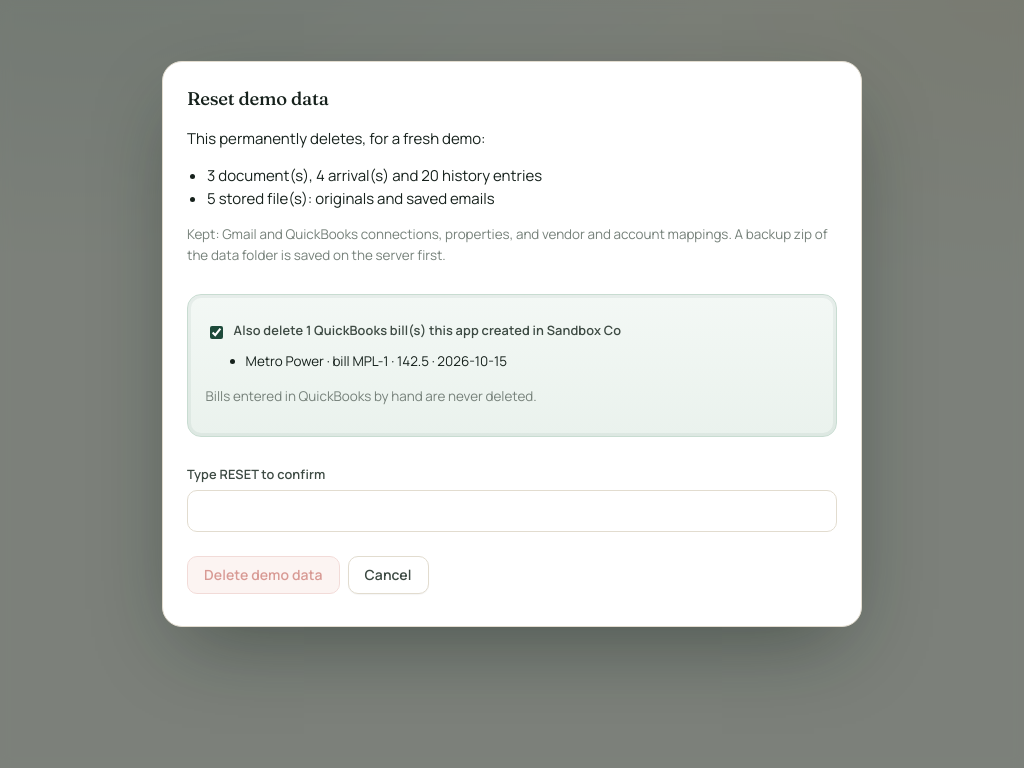
ResetDemo › can leave QuickBooks alone, and shows a failure without closing
Click the checkbox at (216, 332), box [210, 326, 223, 339]
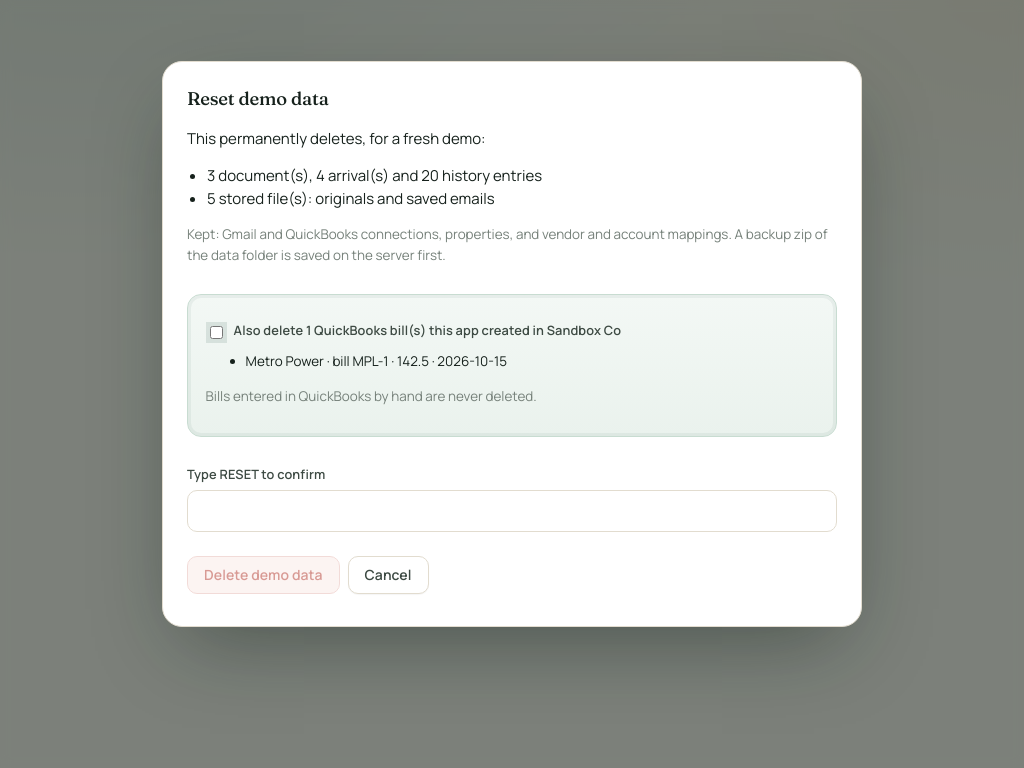
Type "RESET" into the field labelled "Type RESET to confirm" at (512, 511), box [187, 490, 837, 532]
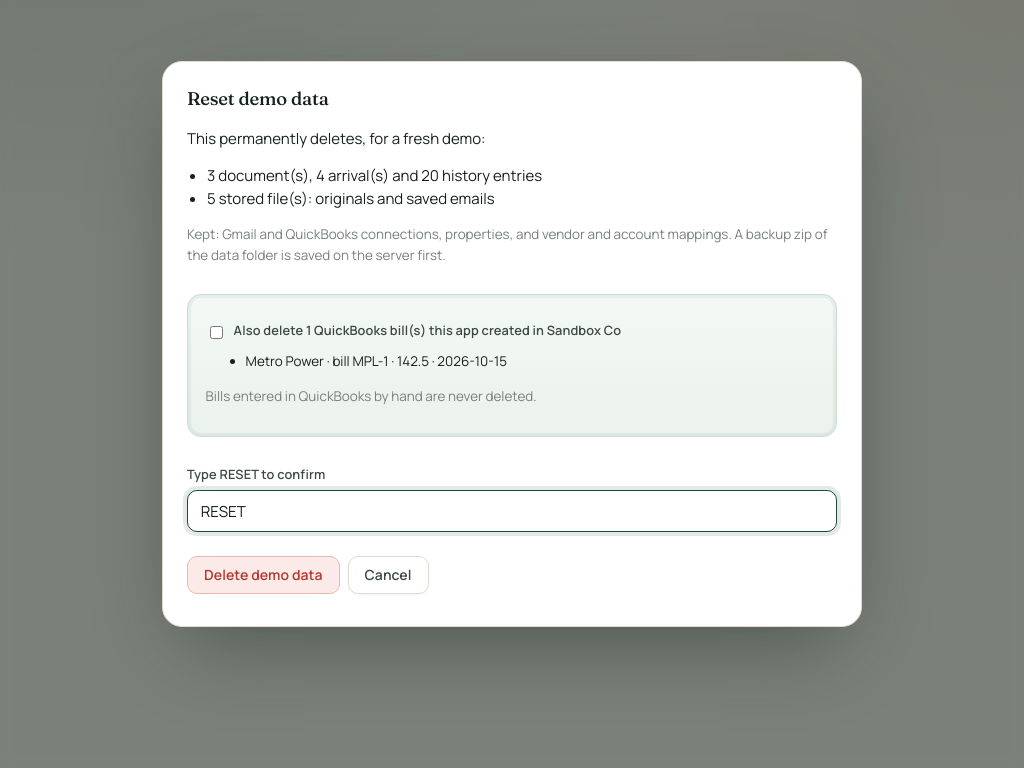
Click the button "Delete demo data" at (263, 575), box [187, 556, 340, 594]
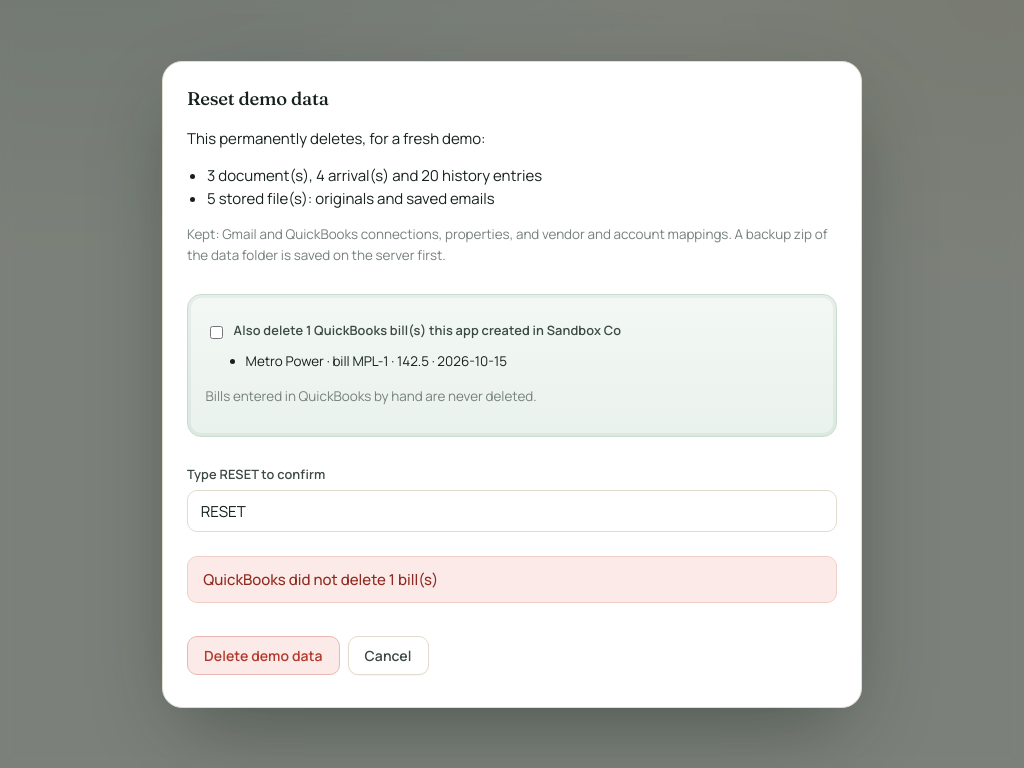
Now the message shows "did not delete", box [203, 569, 438, 590]
